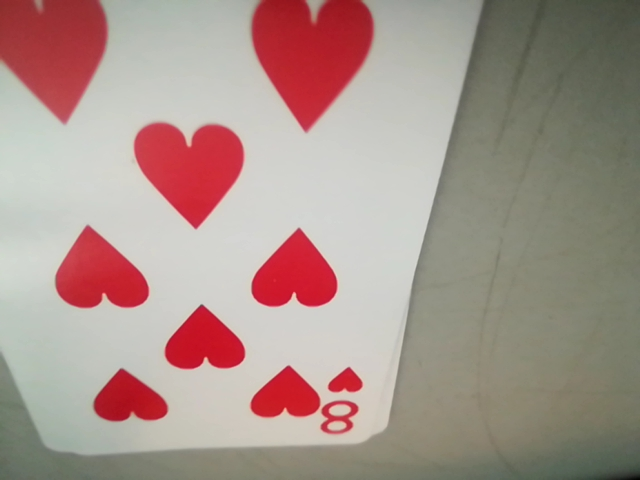hx 8: (319, 362, 366, 438)
